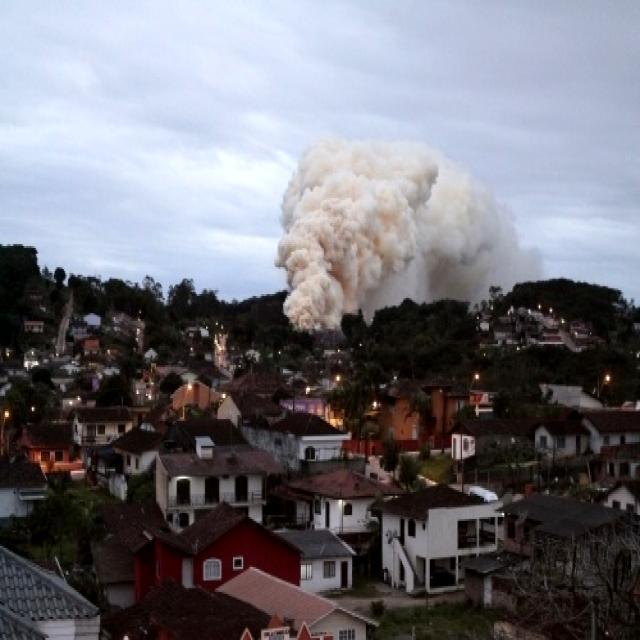Smoke: (274, 115, 500, 324)
